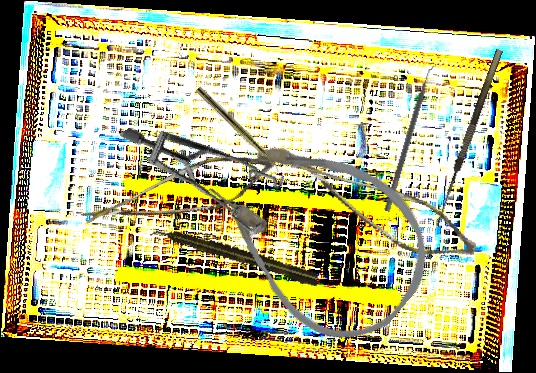Cannula: (180, 97, 458, 368)
Handpiece: (149, 221, 321, 289), (194, 85, 284, 174)
Hook Surgical: (432, 48, 513, 231)
Micro Scissor: (78, 122, 282, 269), (275, 153, 487, 268)
Spatula Surgical: (383, 61, 440, 214)
Speculum: (119, 73, 302, 268)
